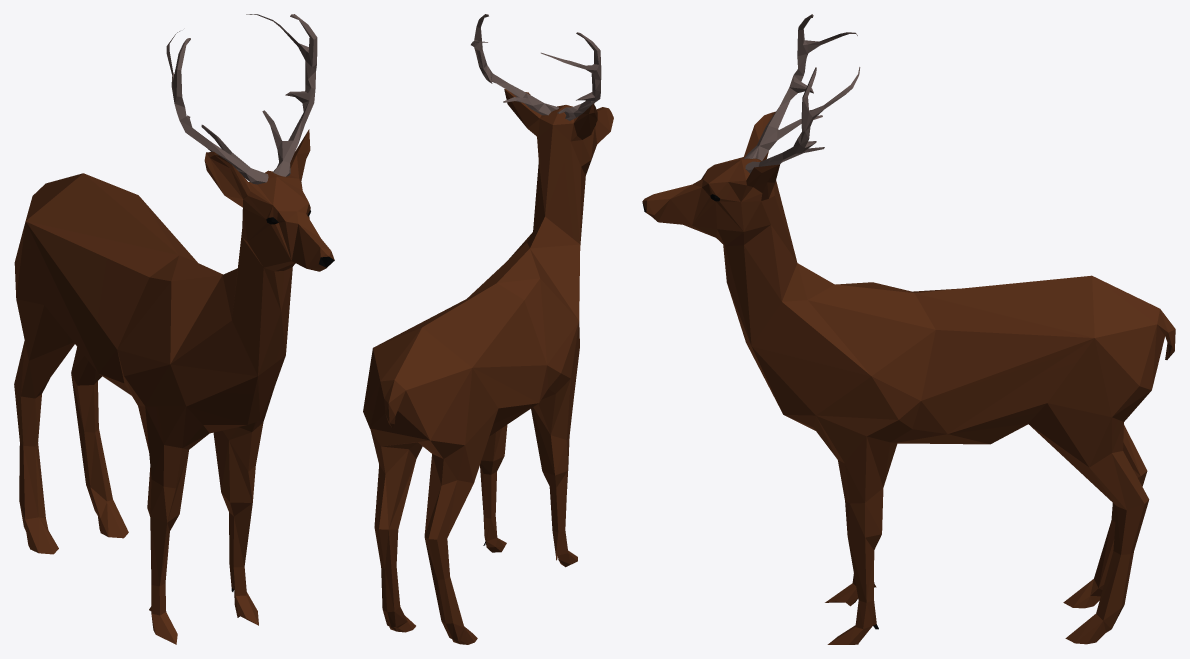
Rendered from deer.FBX.
3 renders of one model, left to right at view 1: azimuth 30°, elevation 25°; view 2: azimuth 150°, elevation 25°; view 3: azimuth 270°, elevation 25°, orthographic. The views are drawn at different scales.
Visible parts, largest first — view 1: deer; view 2: deer; view 3: deer.
Part boxes in pixels (bbox=[...]): deer: bbox=[14, 14, 334, 644]; deer: bbox=[363, 14, 613, 644]; deer: bbox=[642, 14, 1175, 644].
Size of the model in its own units: 18.64 by 73.03 by 59.53.
